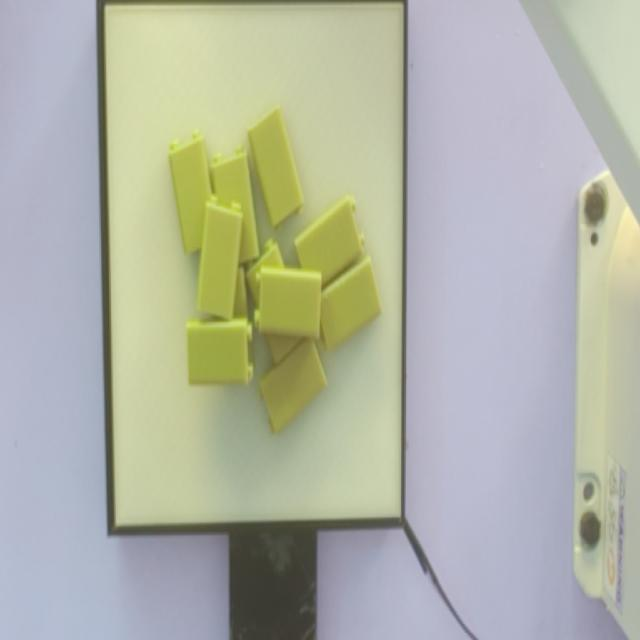bateria: (248, 106, 304, 229), (194, 195, 243, 322), (255, 267, 321, 339), (187, 320, 253, 385)
mesa: (97, 2, 408, 535)
